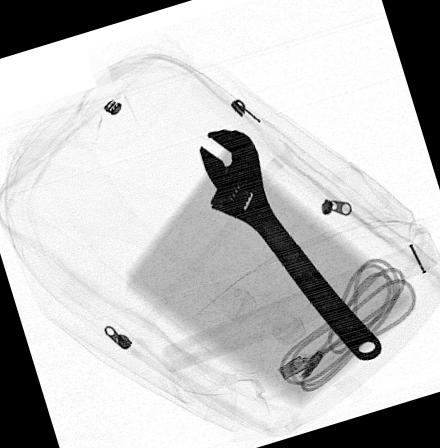Wrench: (197, 127, 383, 360)
